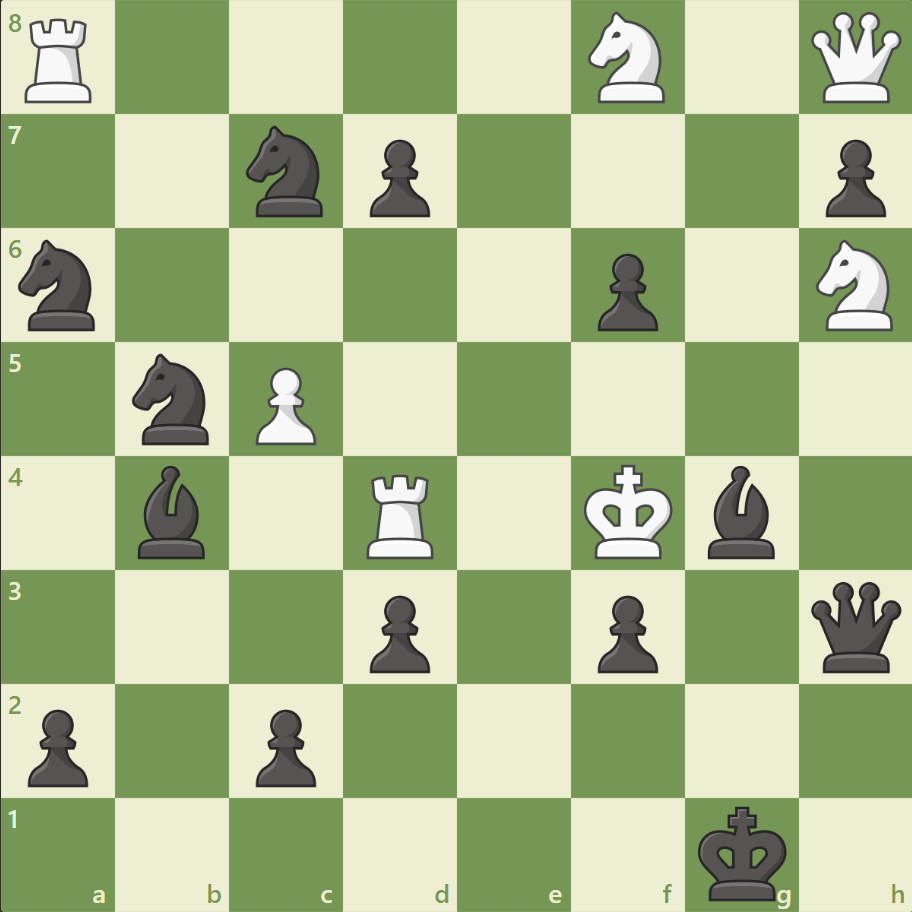K: (579, 458, 679, 566)
N: (579, 7, 676, 110), (806, 234, 903, 337)
P: (247, 359, 322, 450)
Q: (805, 9, 904, 108)
R: (19, 12, 102, 109), (360, 466, 442, 563)
b: (131, 460, 215, 563), (698, 460, 782, 563)
k: (692, 798, 792, 906)
n: (124, 348, 222, 450), (11, 234, 108, 337), (238, 121, 335, 223)
p: (20, 700, 95, 791), (247, 700, 322, 791), (361, 132, 435, 223), (815, 132, 889, 223), (588, 246, 662, 337), (361, 586, 435, 677), (588, 586, 662, 677)
q: (805, 576, 904, 676)
